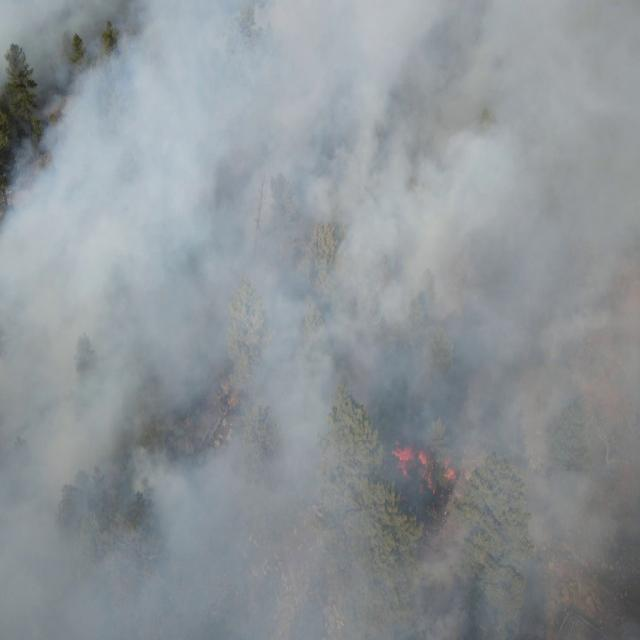fire: (389, 439, 459, 495), (223, 388, 239, 412)
smoke: (0, 1, 640, 640)
